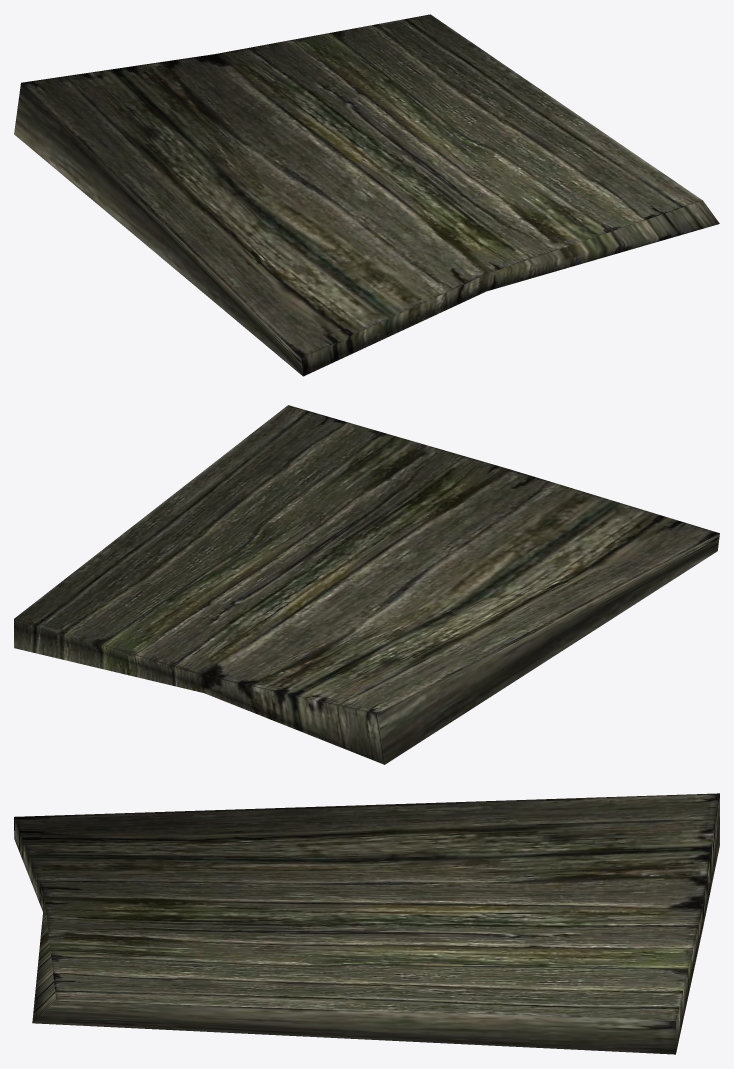
The model's file is MIN_LOB_PLANKS_2X3M.glb.
The picture shows the model from 3 angles, top to bottom: view 1: azimuth 30°, elevation 25°; view 2: azimuth 150°, elevation 25°; view 3: azimuth 270°, elevation 25°; orthographic projection. The views are drawn at different scales.
Visible parts, largest first — view 1: Mesh; view 2: Mesh; view 3: Mesh.
Part boxes in pixels (bbox=[...]): Mesh: bbox=[14, 14, 719, 376]; Mesh: bbox=[14, 405, 719, 764]; Mesh: bbox=[14, 793, 719, 1054].
Size of the model in its own units: 3.02 by 0.4076 by 3.85.
1 material, 1 textured.
